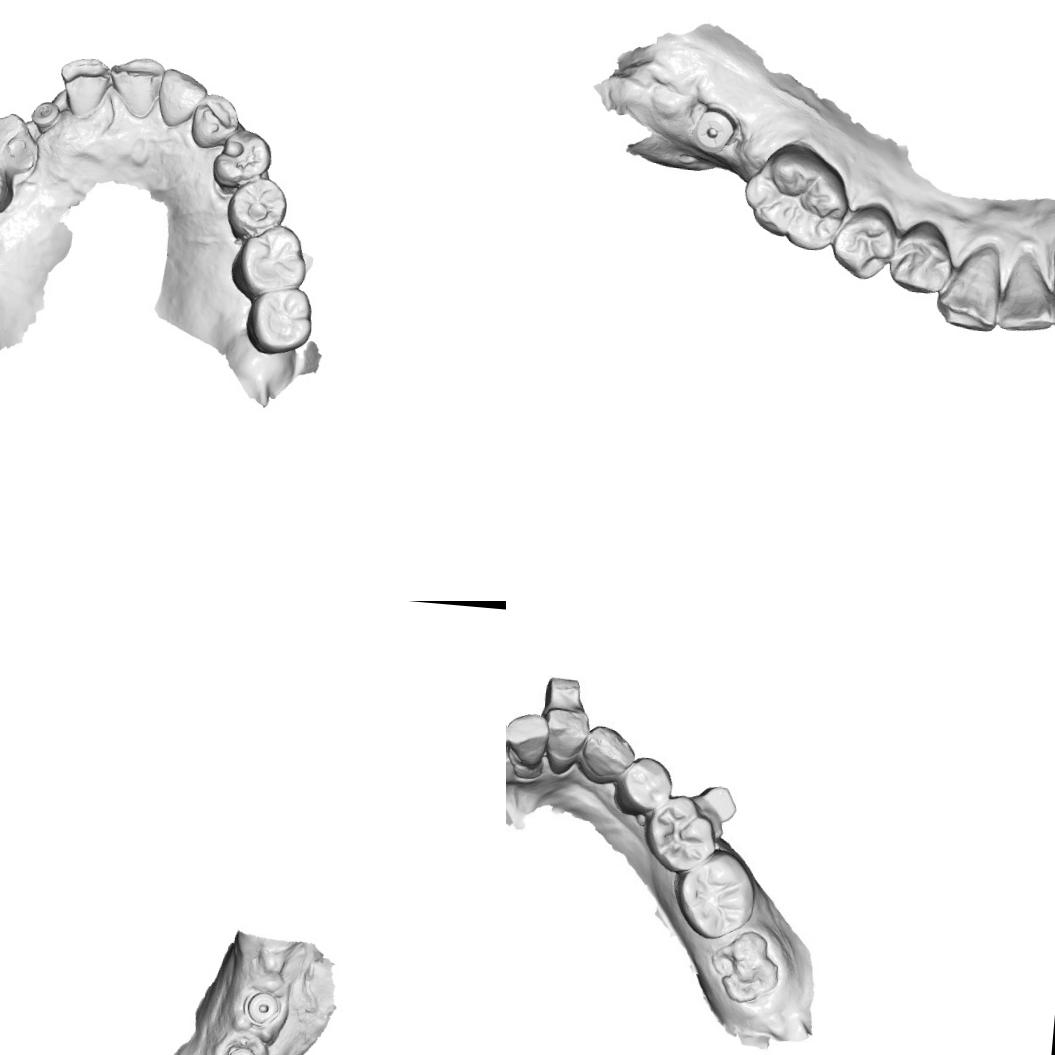canine: (933, 239, 1004, 336), (576, 723, 636, 786), (187, 90, 242, 152), (0, 109, 43, 178)
implant: (240, 987, 282, 1027), (26, 96, 62, 134), (220, 1042, 259, 1055)
implant_plus: (690, 104, 742, 152)
incisor: (992, 257, 1055, 336), (105, 52, 168, 122), (54, 54, 112, 121), (154, 64, 210, 131), (544, 708, 586, 776), (509, 713, 548, 769)
molar: (737, 138, 848, 253), (227, 219, 312, 300), (678, 852, 756, 938), (644, 792, 718, 872), (243, 282, 316, 359)
premolar: (829, 200, 902, 283), (886, 223, 954, 298), (223, 173, 290, 244), (209, 124, 274, 192), (611, 752, 680, 816), (0, 156, 17, 215)
